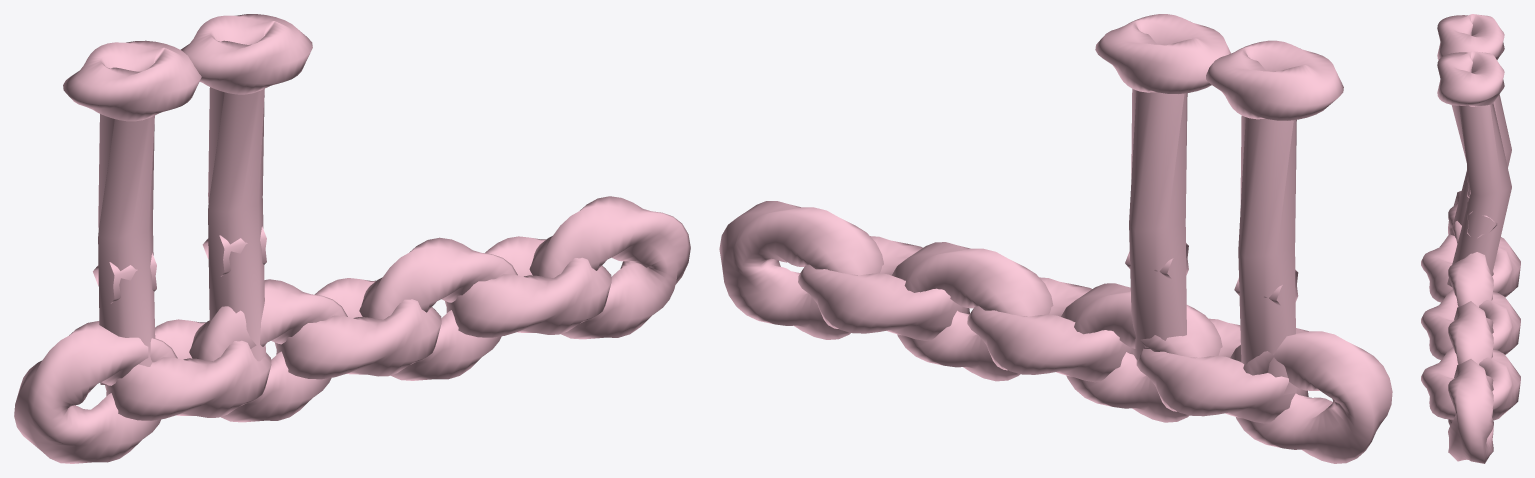
File: row_hdc.glb
3 views of the same model, side by side, from view 1: azimuth 30°, elevation 25°; view 2: azimuth 150°, elevation 25°; view 3: azimuth 270°, elevation 25° (orthographic). The views are drawn at different scales.
Visible parts, largest first — view 1: Row; view 2: Row; view 3: Row.
Boxes of the visible parts, bbox=[...] form: Row: bbox=[14, 14, 690, 463]; Row: bbox=[719, 14, 1392, 463]; Row: bbox=[1421, 14, 1520, 463].
Size of the model in its own units: 3.76 by 2.13 by 0.7025.
